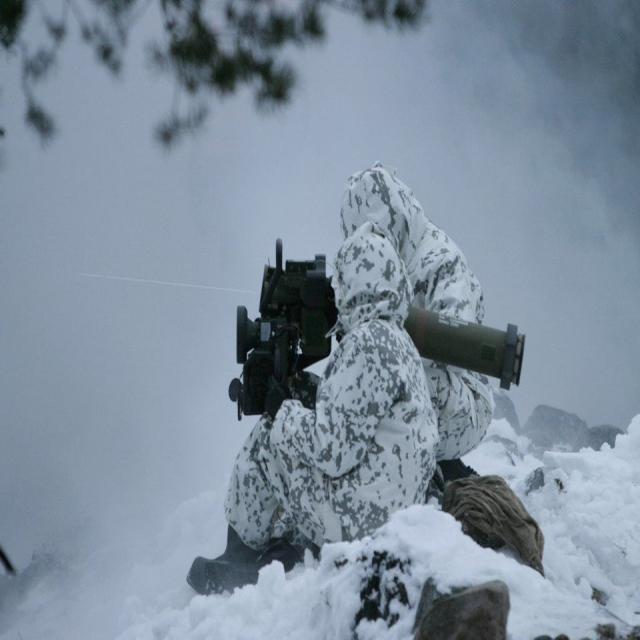Human: (184, 224, 441, 595), (336, 161, 496, 461)
